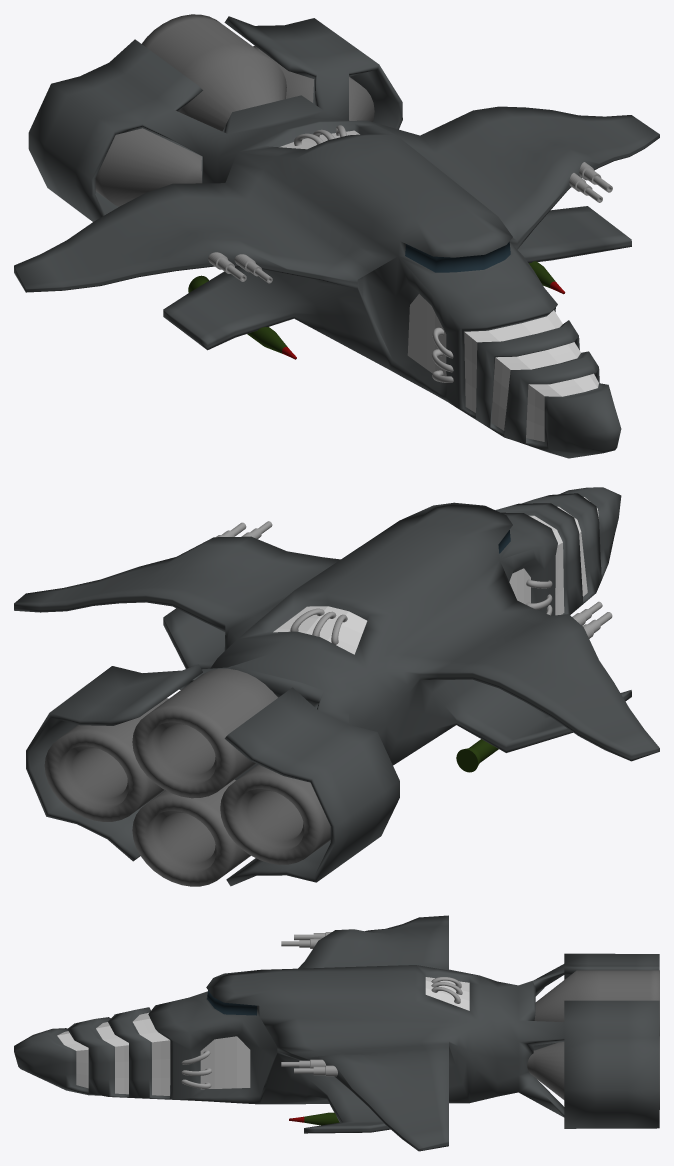
Rendered from enemy_fighter.fbx.
3 renders of one model, top to bottom at view 1: azimuth 30°, elevation 25°; view 2: azimuth 150°, elevation 25°; view 3: azimuth 270°, elevation 25°, orthographic. The views are drawn at different scales.
Parts seen in each view (by area): view 1: Cube; view 2: Cube; view 3: Cube.
Part boxes in pixels (x1,y1,x2,y2): Cube: (14,14,659,458); Cube: (14,487,659,886); Cube: (14,915,659,1151).
Bounding box in the file's own units: 489 × 128 × 577.
